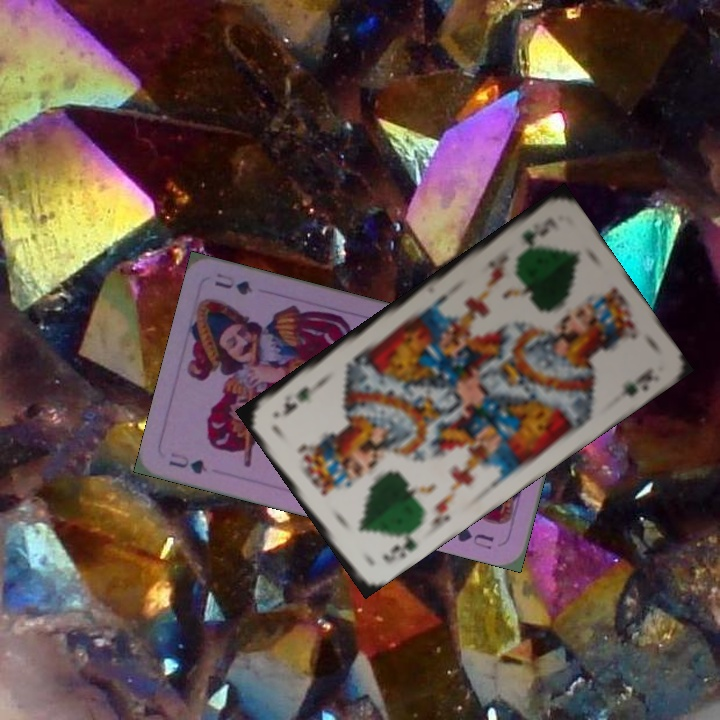GK: (379, 523, 419, 566), (518, 223, 553, 248)
GU: (164, 448, 210, 477)
